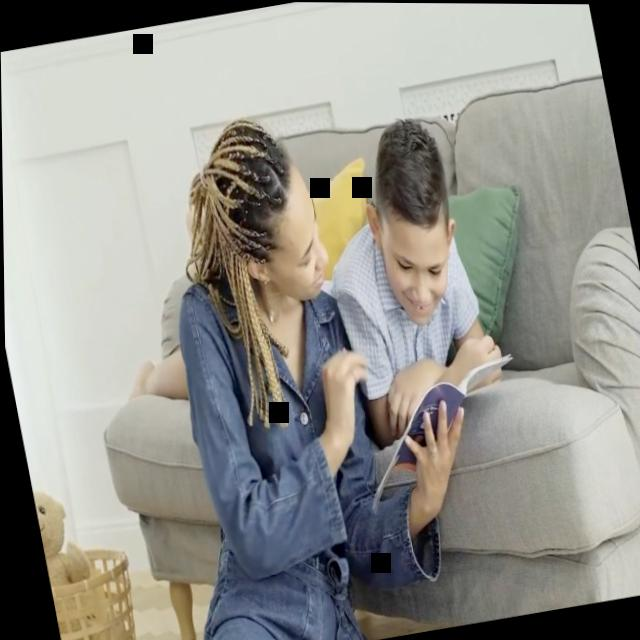NO-Mask: (376, 214, 461, 329), (259, 179, 336, 305)
